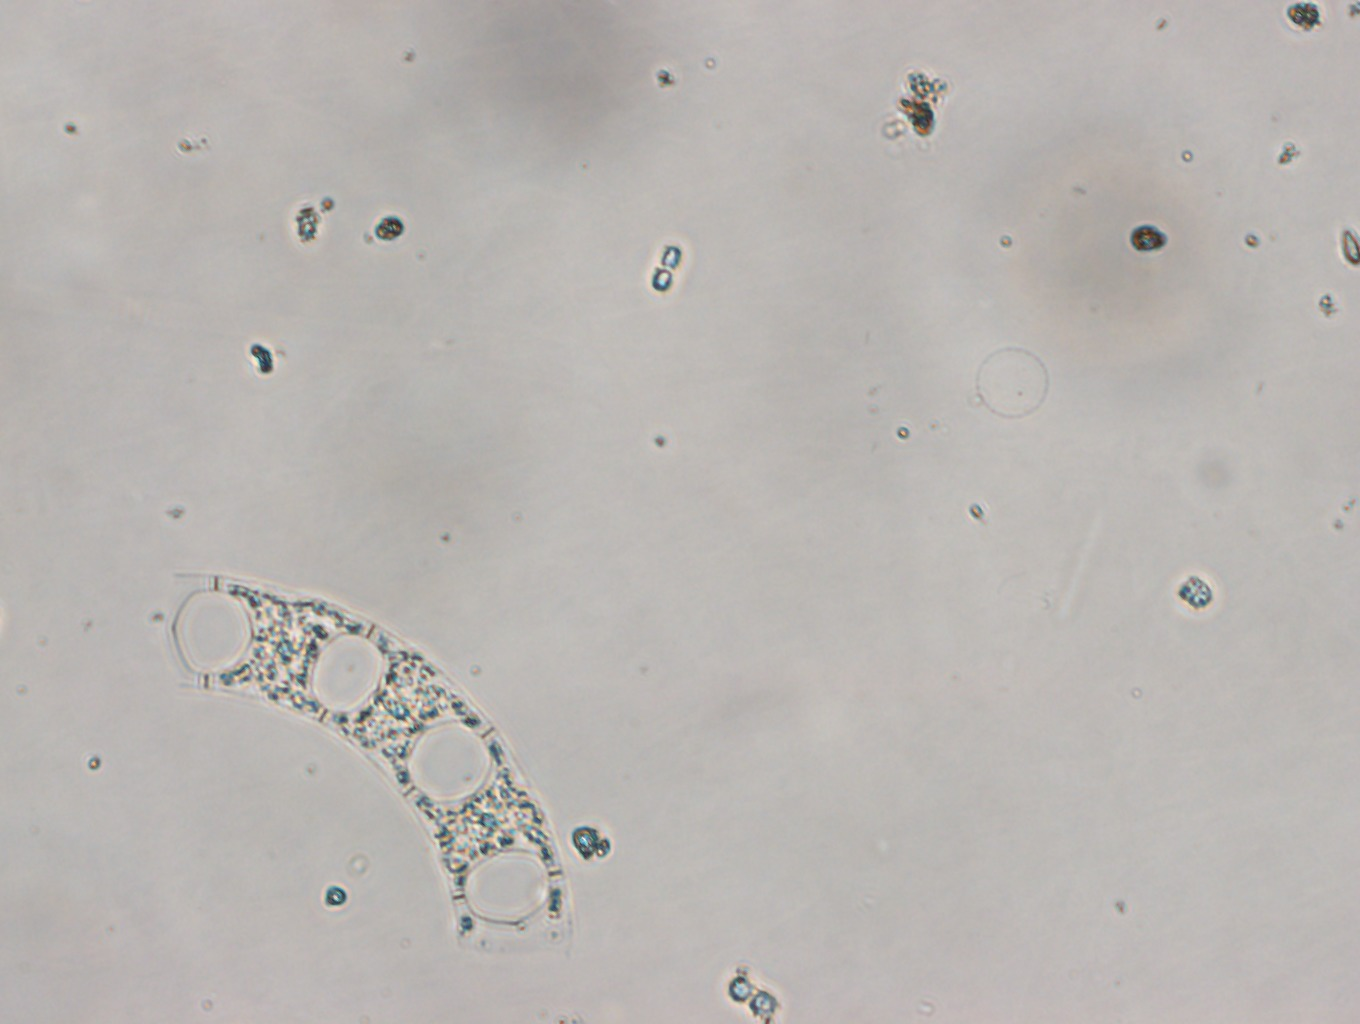eucampia: (168, 573, 575, 959)
